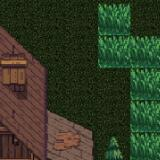Obstacle: (0, 67, 98, 160)
Slow: (131, 35, 160, 160), (98, 4, 130, 67)
